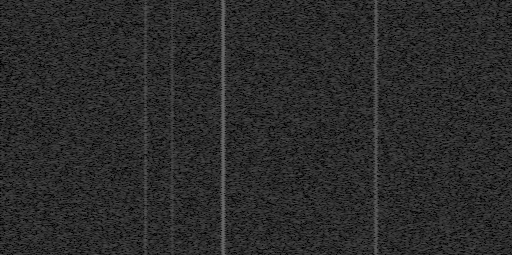wv_am: (143, 0, 148, 255)
wv_wbfm: (372, 0, 380, 255), (219, 0, 227, 255), (169, 0, 176, 255)
